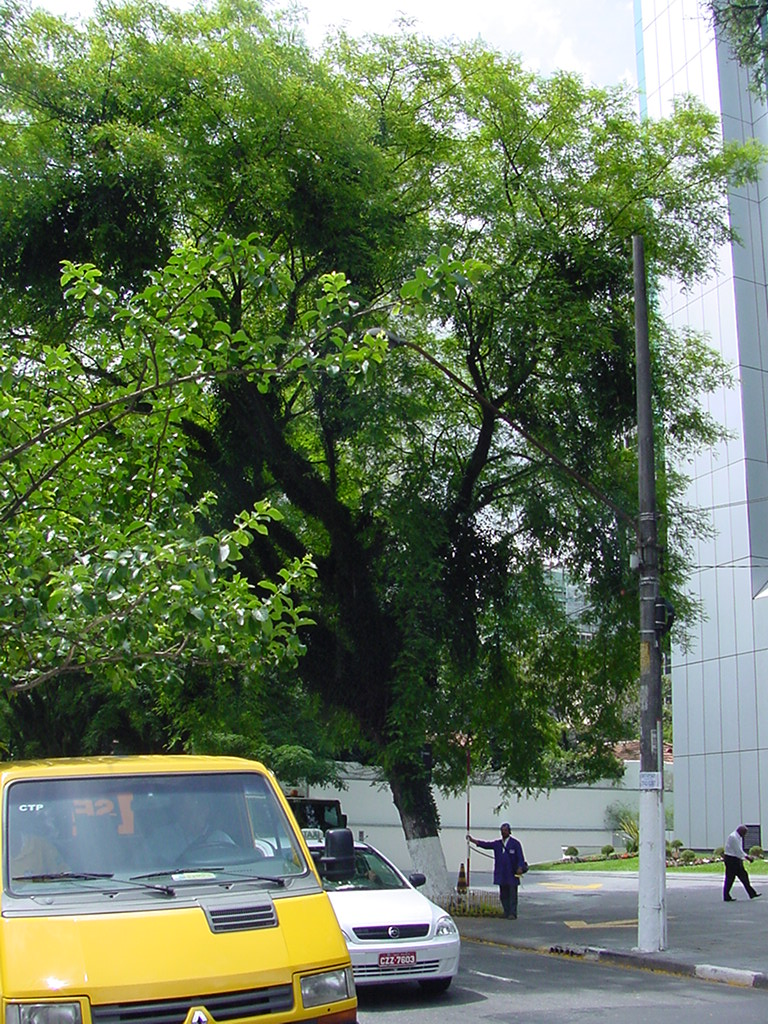crown: (7, 8, 764, 766)
stem: (376, 771, 460, 914)
stick: (455, 747, 485, 908)
tree: (1, 2, 766, 915)
